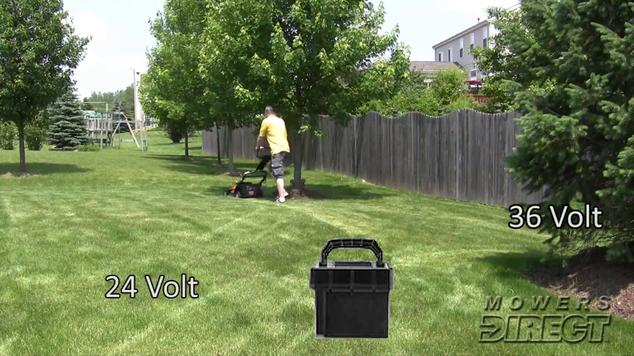walk: (257, 97, 294, 201)
